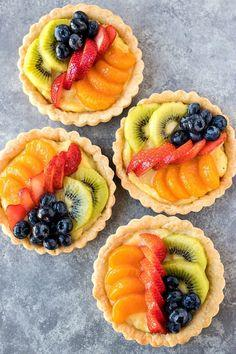Tart: (92, 216, 224, 348), (0, 122, 115, 258), (111, 88, 233, 216), (23, 2, 137, 129)
